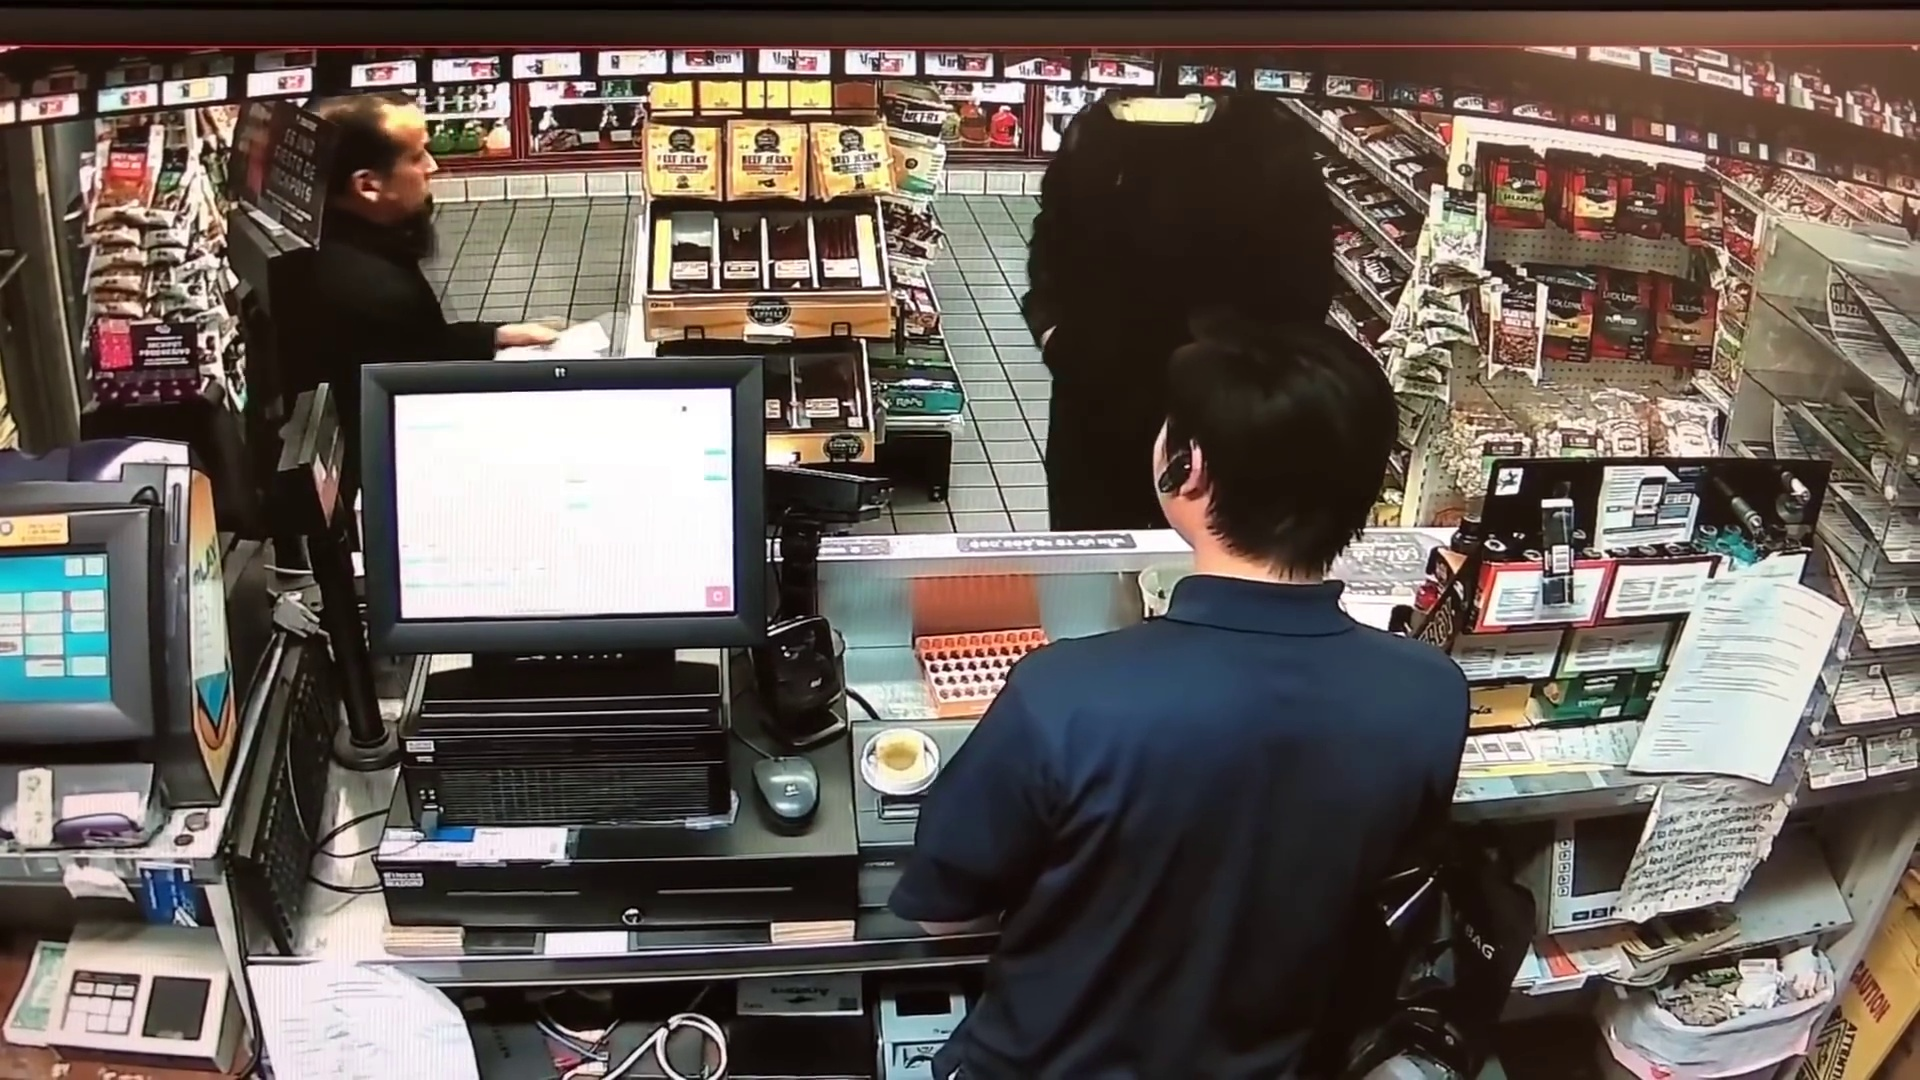face: (349, 100, 437, 213)
